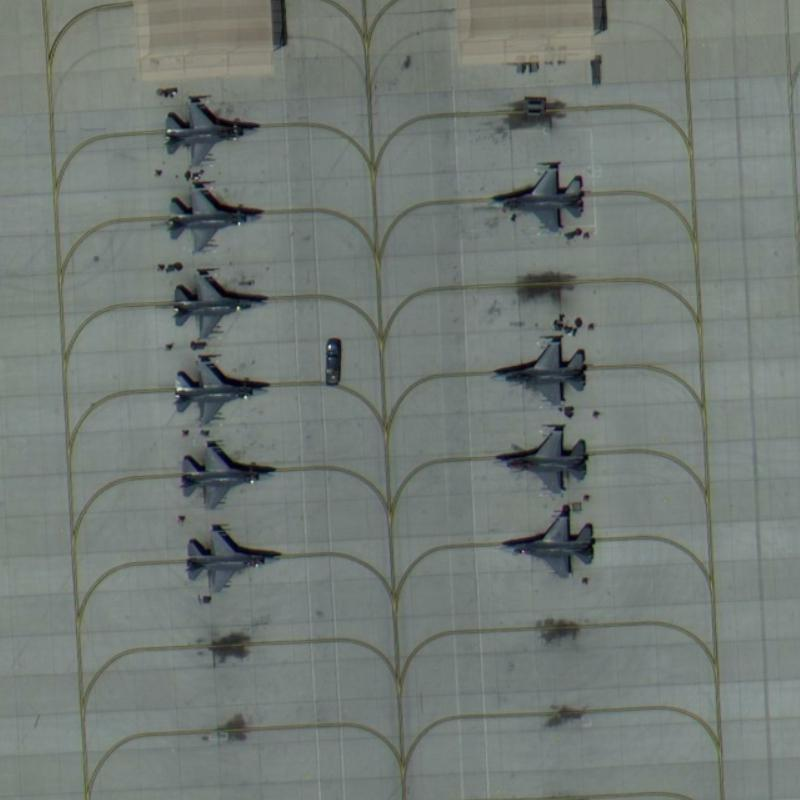A5: (480, 322, 590, 420), (153, 177, 269, 263), (153, 88, 268, 172), (487, 504, 602, 586), (161, 266, 278, 346), (482, 157, 595, 238), (169, 347, 273, 434), (179, 518, 286, 601), (172, 437, 281, 515), (483, 421, 591, 499)
